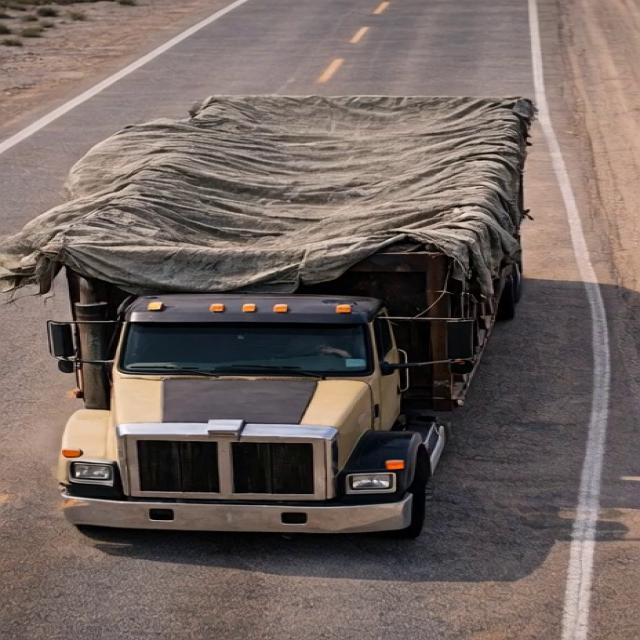trailer: (16, 78, 548, 300)
truck: (6, 48, 581, 565)
